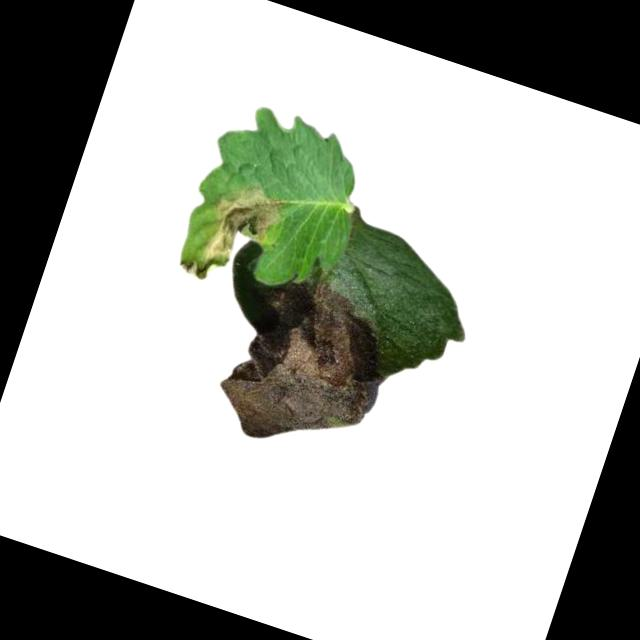Late_blight: (197, 262, 407, 473), (174, 171, 291, 301)
